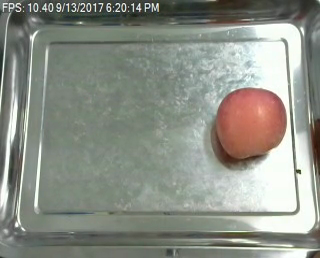Apple: (214, 86, 286, 161)
